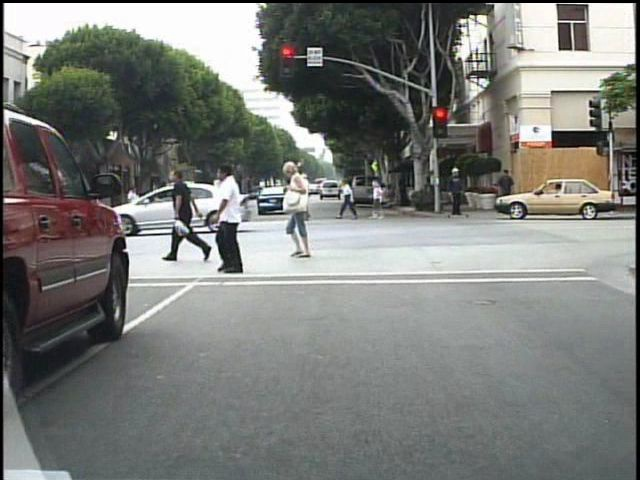person: (206, 162, 268, 279), (167, 161, 214, 266), (280, 163, 329, 262), (444, 163, 464, 221), (297, 171, 318, 225), (278, 176, 299, 224), (340, 174, 360, 224), (156, 177, 173, 231), (119, 178, 138, 226), (496, 166, 515, 213), (4, 190, 22, 237), (9, 197, 26, 237)
